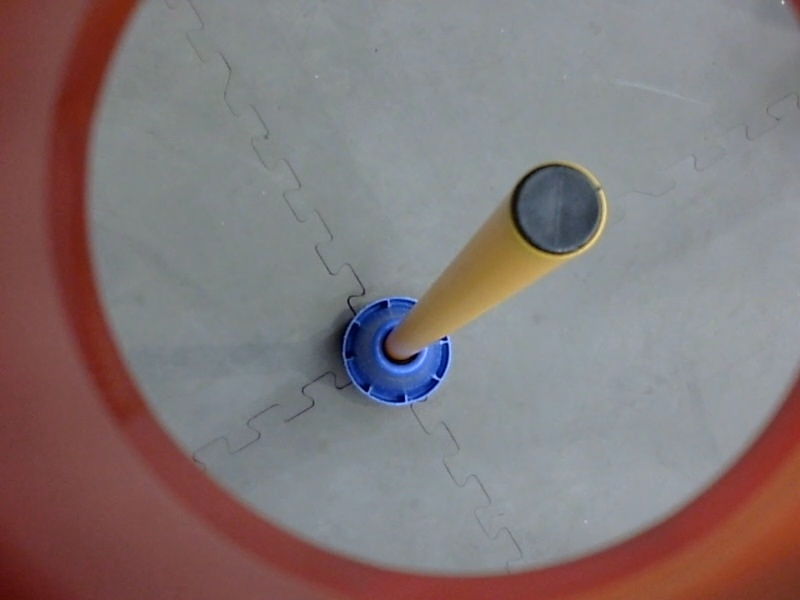tip: (504, 151, 614, 264)
